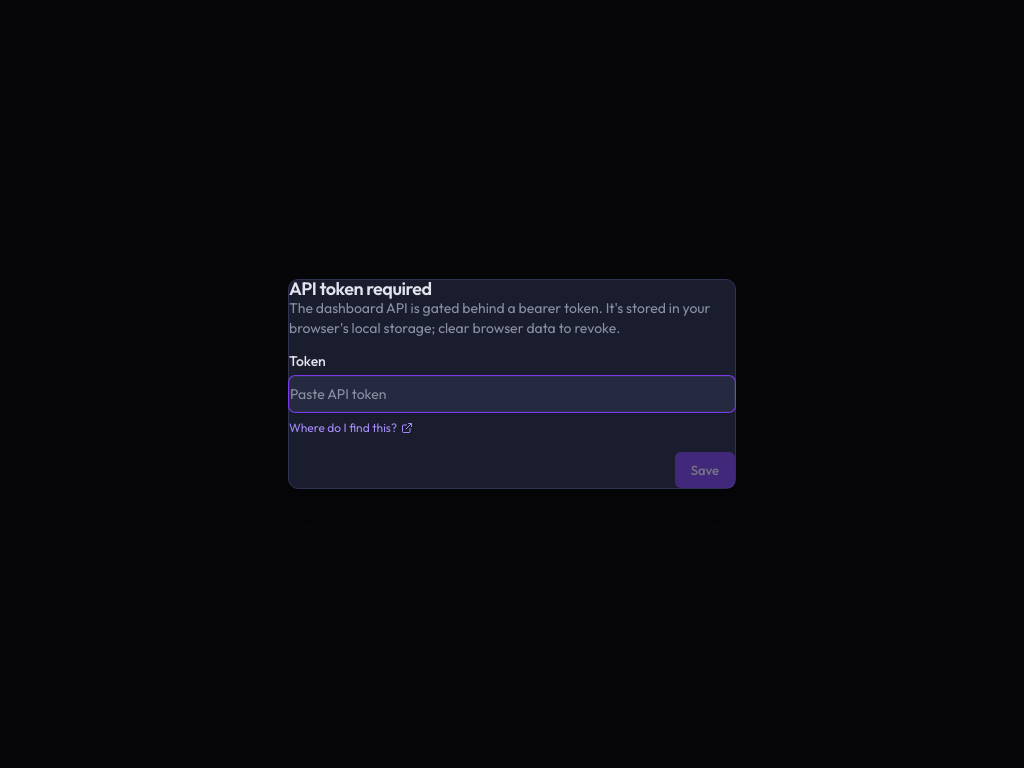
it: ApiTokenModal › should re-validate on input change once a validation error is visible
Type "tooshort" into the password field with placeholder "Paste API token" at (512, 394), box [289,376,735,412]
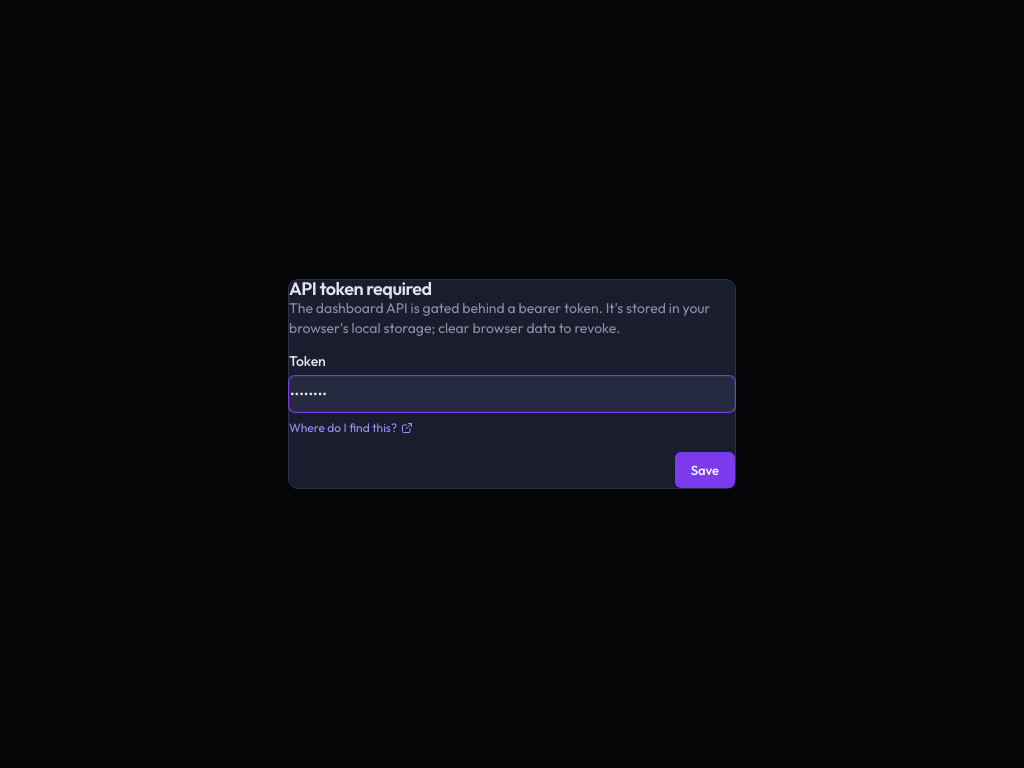
Click the button "Save" at (705, 470), box [675,452,735,488]
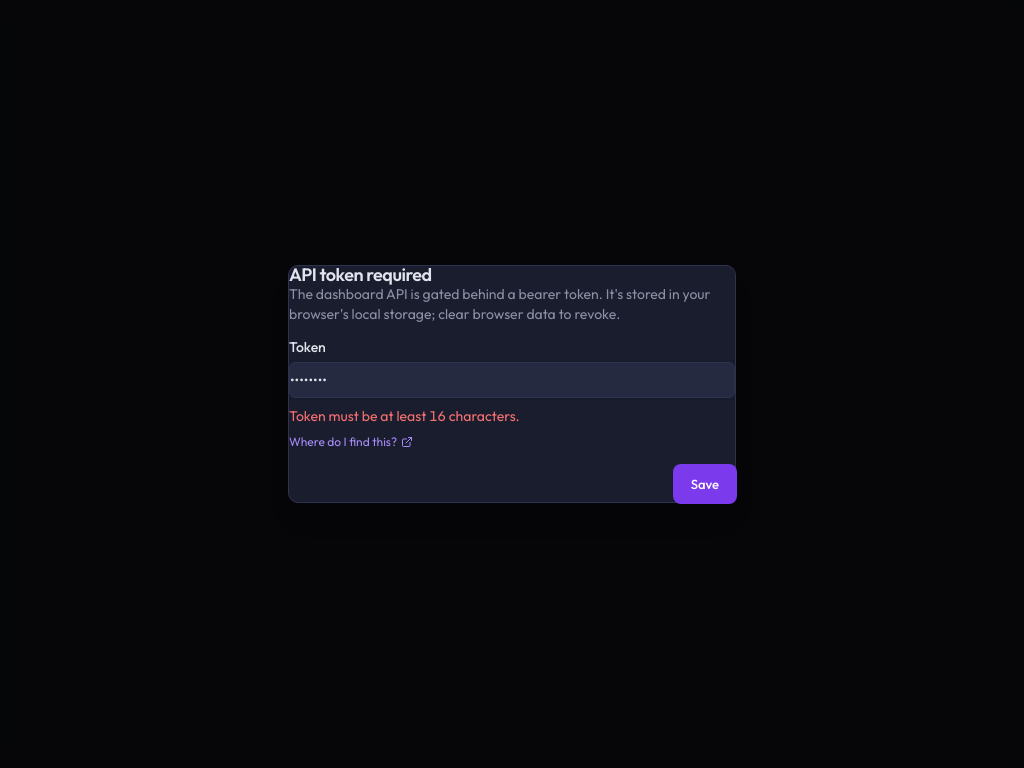
Now the message "Token must be at least 16 characters." is shown, box [289,407,520,425]
Extend to a valid-length token — the live re-validate should clear the error.
Type "-now-long-enough" into the password field with placeholder "Paste API token" at (512, 380), box [289,362,735,398]
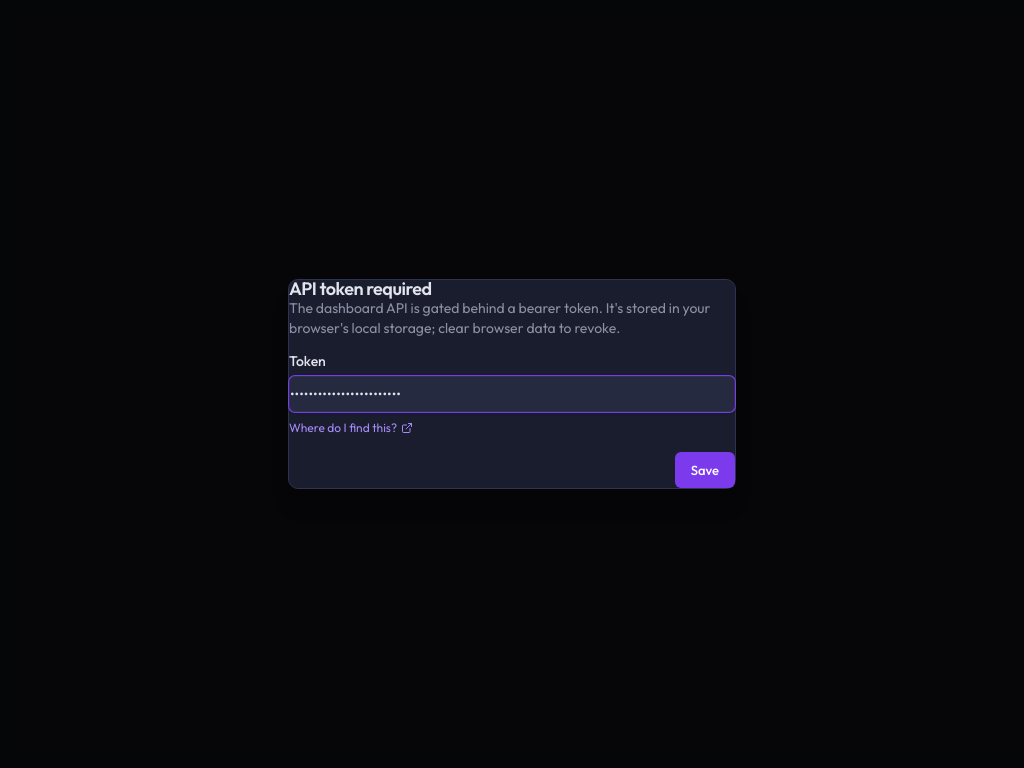
Now the message "Token must be at least 16 characters." is gone
